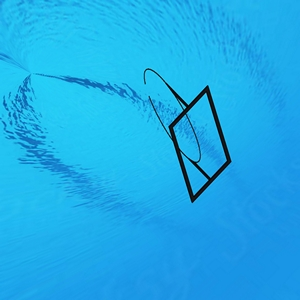circle: (139, 64, 236, 205)
